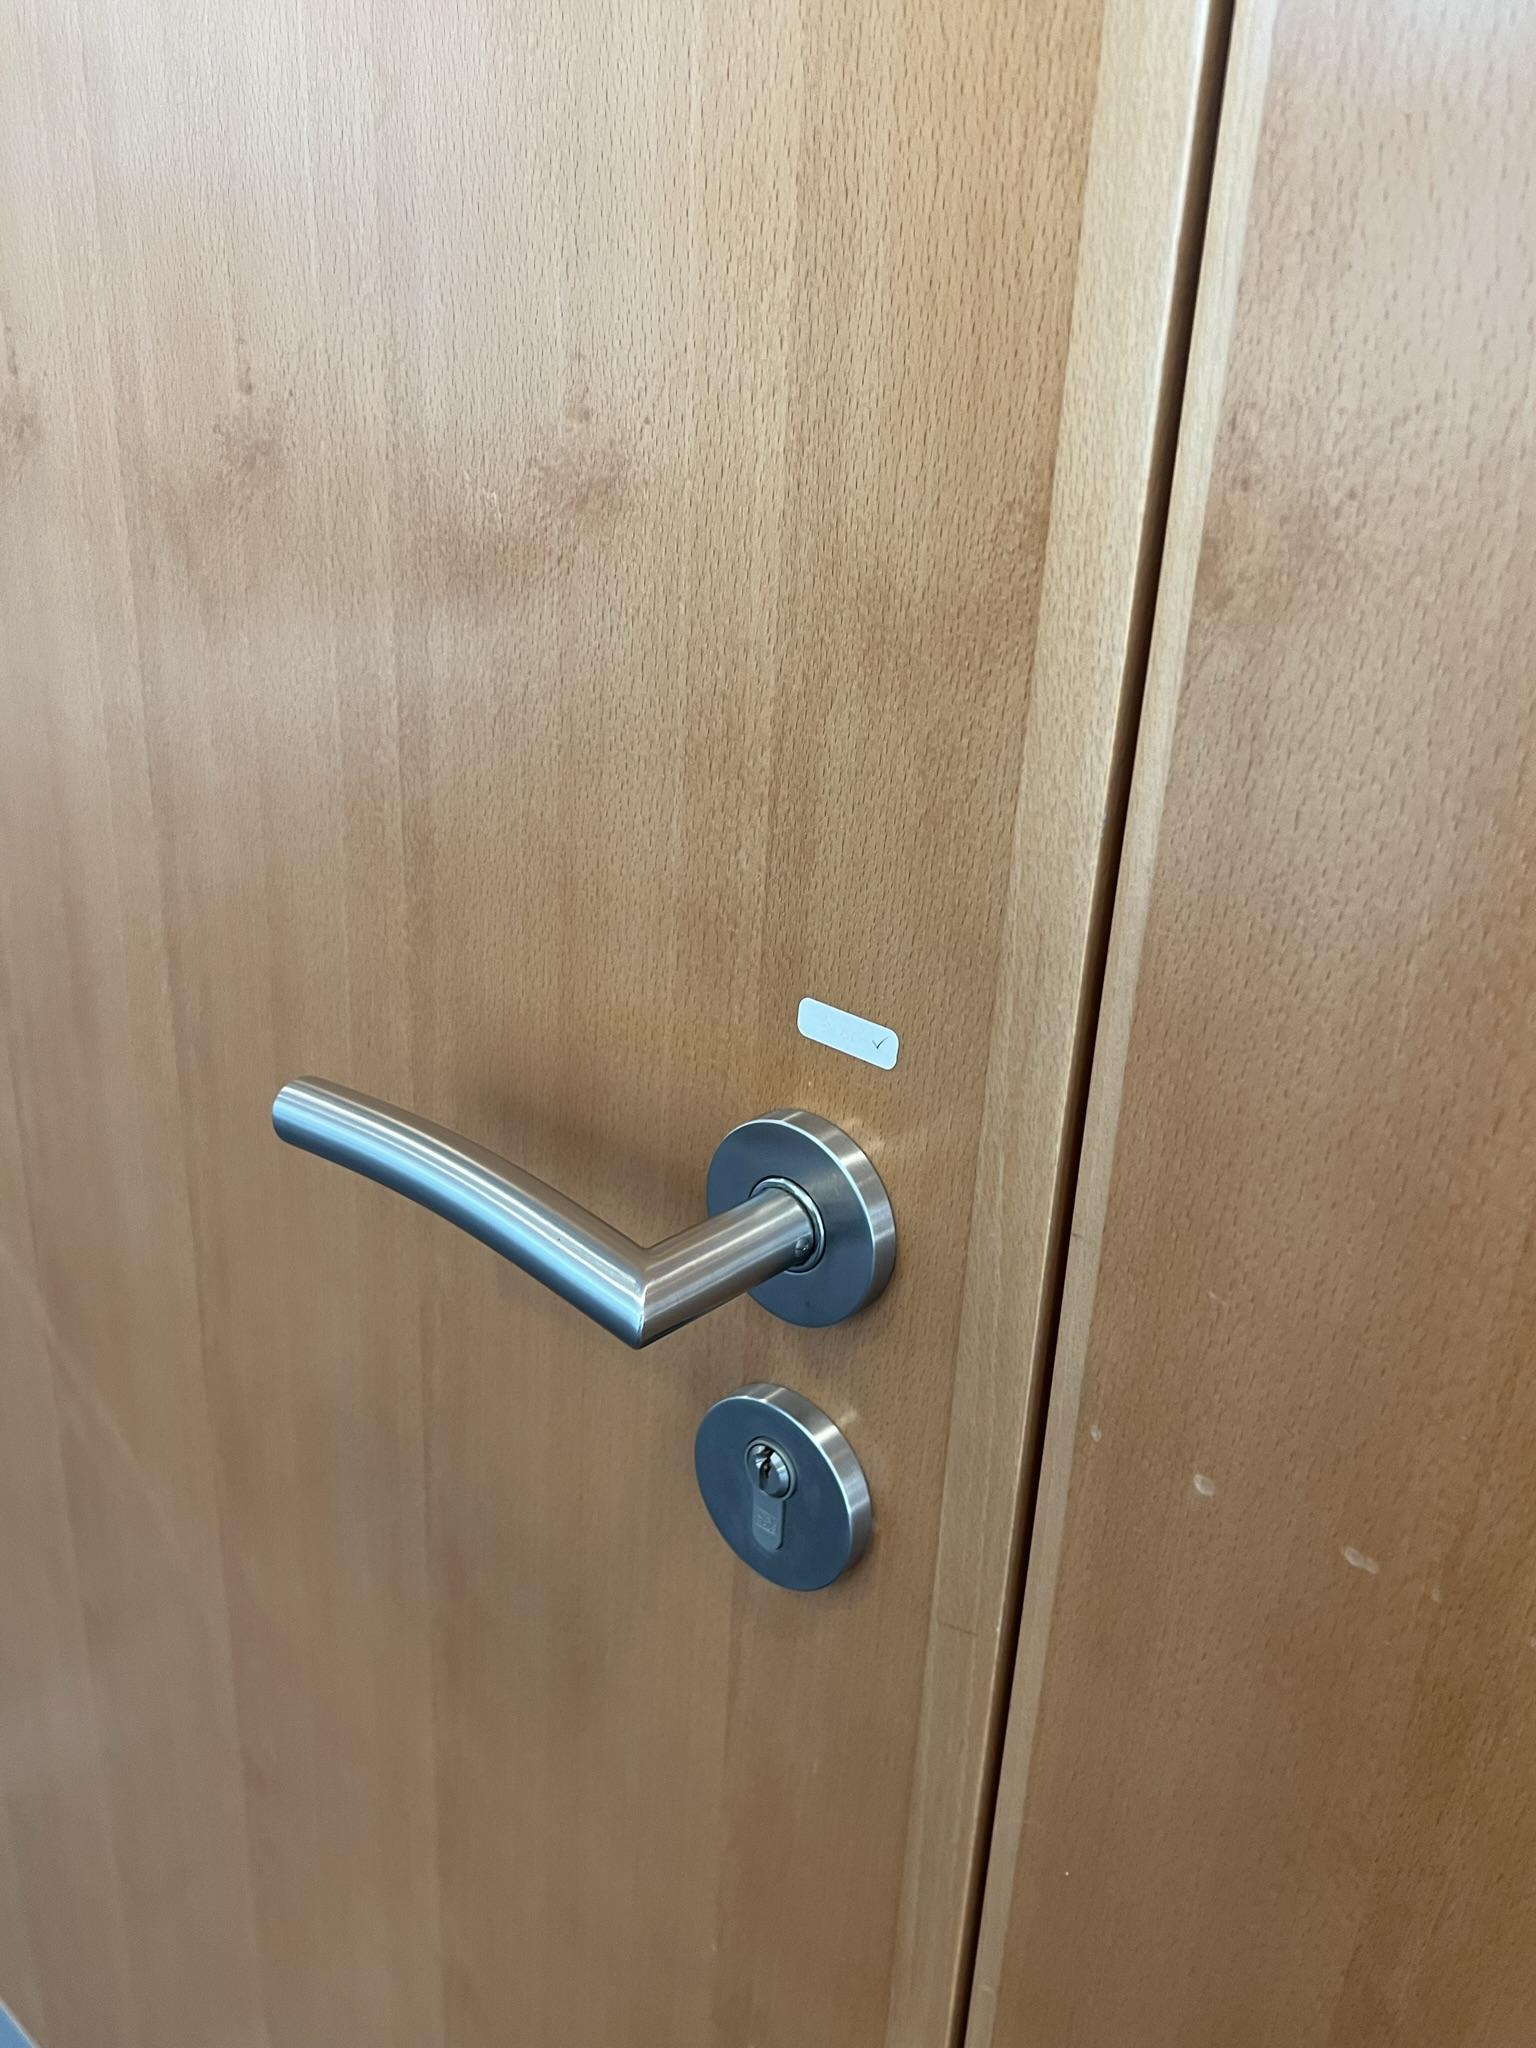handle: (261, 1030, 929, 1358)
